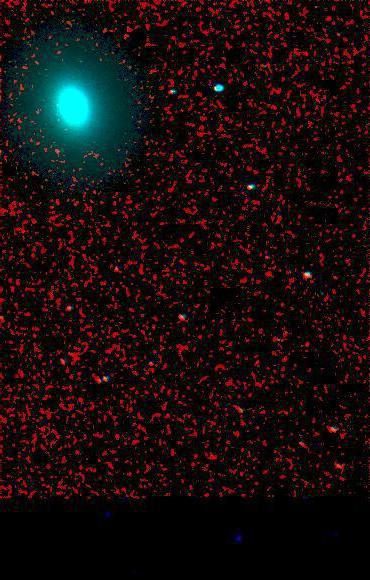star: (43, 139, 73, 169)
